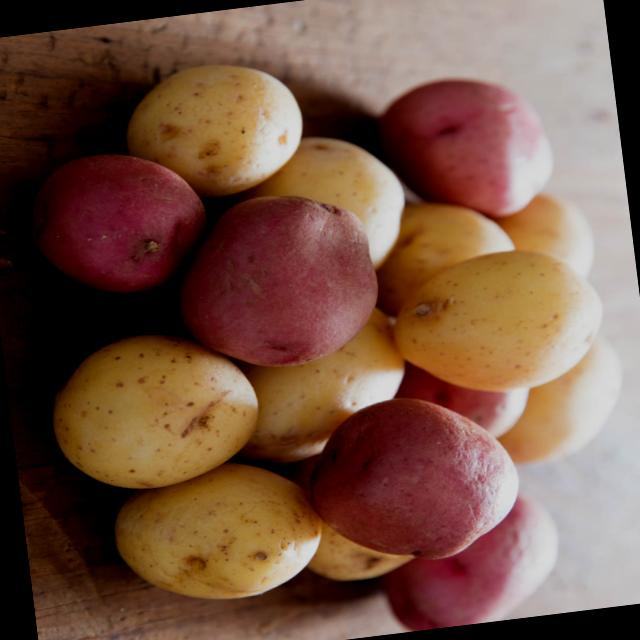potato: (42, 316, 266, 498), (108, 453, 332, 618), (390, 244, 610, 401), (120, 55, 308, 211)
